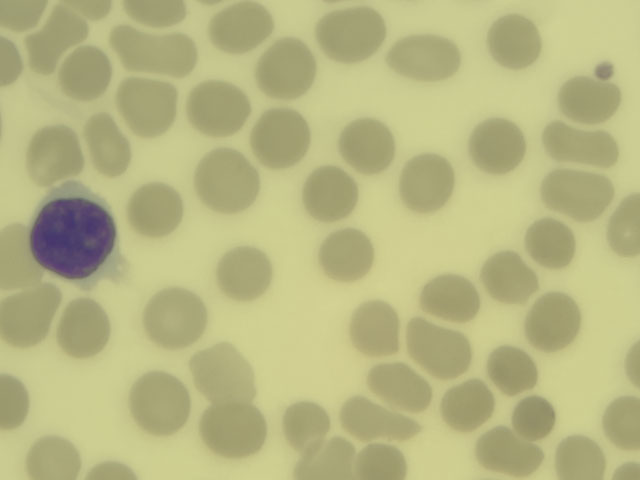RBC: (109, 23, 198, 70), (381, 35, 465, 80), (472, 430, 547, 479), (545, 121, 623, 167), (363, 362, 437, 410), (197, 401, 264, 454), (540, 170, 618, 214), (318, 11, 388, 60), (198, 152, 255, 211), (189, 76, 246, 135), (469, 117, 526, 176), (487, 10, 544, 69), (341, 115, 398, 174), (400, 153, 457, 212), (131, 371, 188, 430), (198, 341, 255, 400), (321, 227, 378, 286), (216, 243, 273, 302), (146, 286, 203, 345), (57, 296, 114, 355), (338, 399, 418, 441), (1, 289, 56, 348), (122, 76, 177, 135), (36, 4, 92, 59), (207, 1, 275, 45), (250, 106, 305, 160), (28, 428, 86, 479), (557, 75, 619, 122), (23, 129, 80, 179), (292, 431, 349, 479), (262, 41, 312, 94), (304, 166, 354, 219), (61, 44, 111, 97), (600, 385, 640, 451), (413, 322, 468, 370), (129, 179, 178, 232), (347, 299, 396, 352), (82, 113, 126, 172), (526, 290, 580, 337), (284, 397, 333, 448), (424, 272, 479, 316), (549, 436, 603, 479), (1, 222, 35, 290), (483, 254, 534, 299), (491, 345, 536, 392), (352, 442, 408, 479), (444, 377, 486, 426), (528, 219, 574, 263), (507, 395, 551, 438), (610, 200, 640, 259), (1, 378, 28, 421), (1, 27, 22, 82), (122, 1, 188, 18)
WBC: (37, 191, 124, 286)
